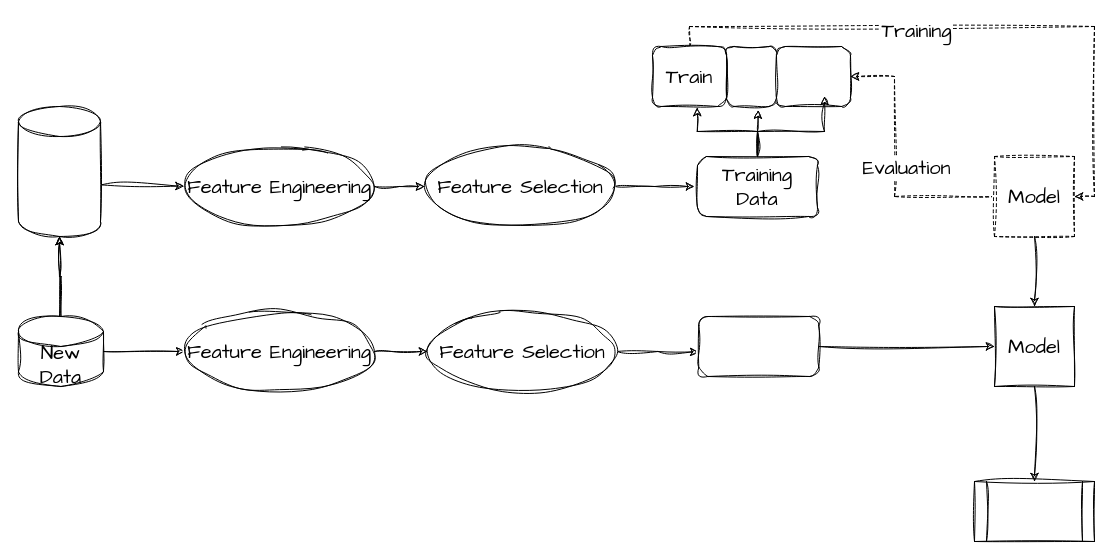
Image size: 1120x559. Some labels were removed from this diagram. Here are the shapes that lost their labels. From the top down, the centre of each, then its label:
At (x=751, y=76): "Delay".
At (x=813, y=76): "Val".
At (x=59, y=171): "Historical Data".
At (x=758, y=346): "Test Data".
At (x=1034, y=511): "Predictions".
